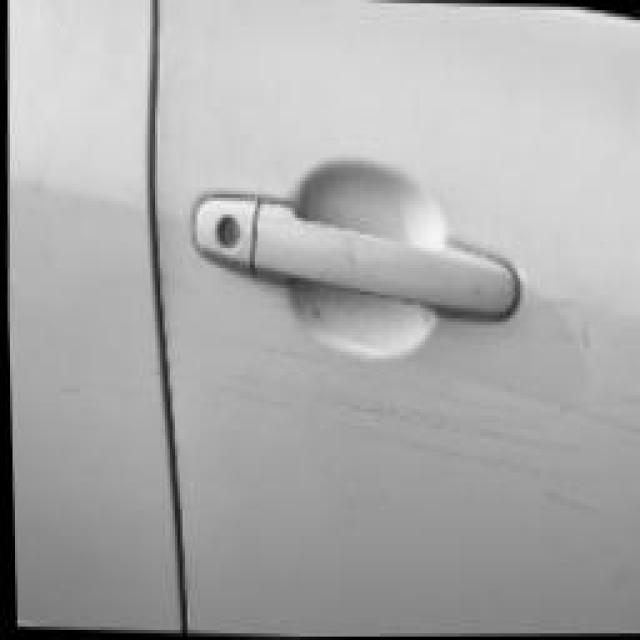Door: (172, 157, 640, 640)
